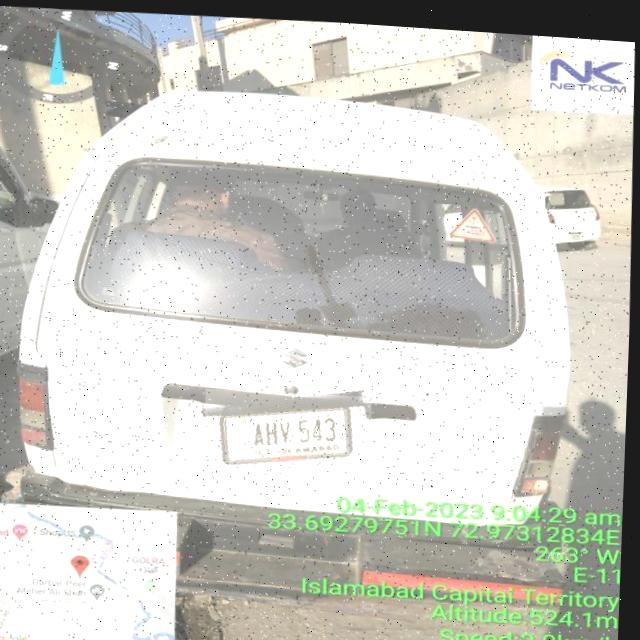LicensePlate: (205, 382, 376, 480)
